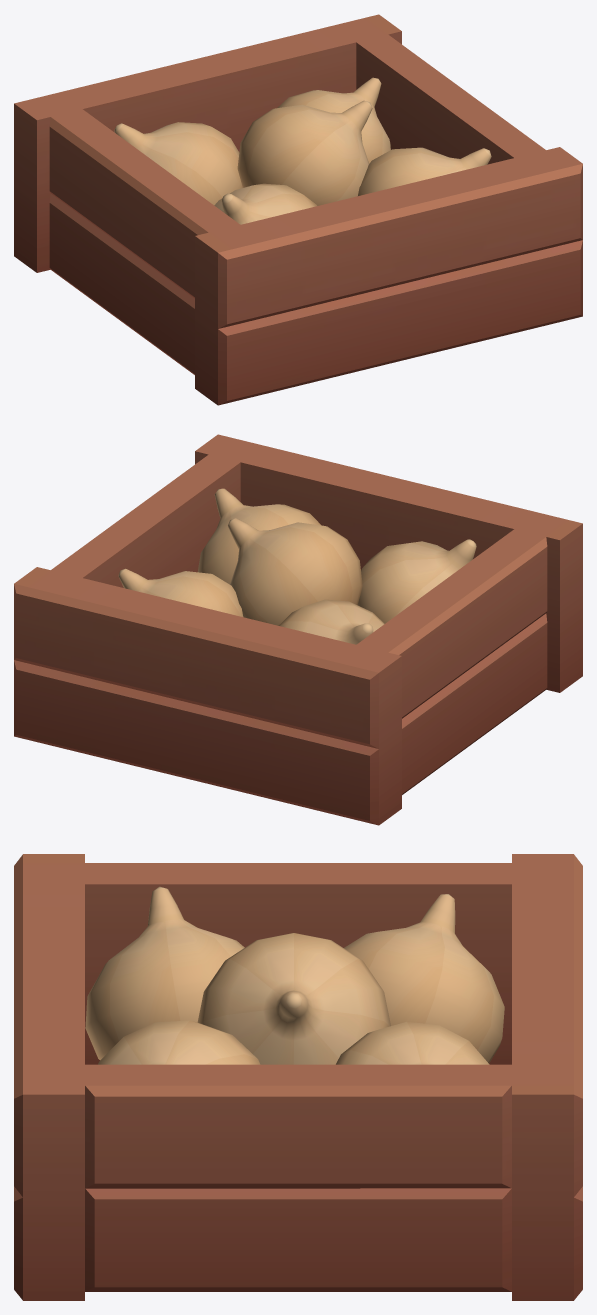
The model's file is kaykit-restaurant-bits-crate-onions.glb.
3 views of the same model, one above another, from view 1: azimuth 30°, elevation 25°; view 2: azimuth 150°, elevation 25°; view 3: azimuth 270°, elevation 25° (orthographic). The views are drawn at different scales.
Parts seen in each view (by area): view 1: crate_onions; view 2: crate_onions; view 3: crate_onions.
Part boxes in pixels (left/top/right/bottom): crate_onions: left=14, top=14, right=582, bottom=405; crate_onions: left=14, top=434, right=582, bottom=825; crate_onions: left=14, top=854, right=582, bottom=1300.
Size of the model in its own units: 2 by 0.9234 by 2.
1 material, 1 textured.
